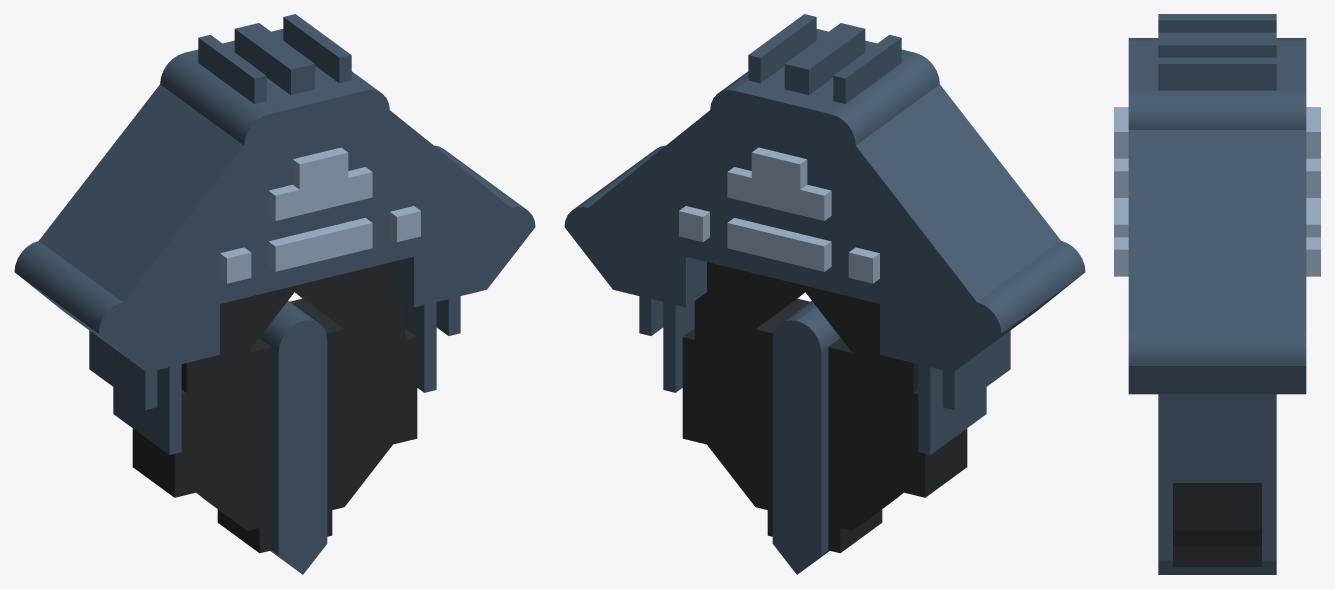
Rendered from SamuraiHelm.fbx.
3 views of the same model, side by side, from view 1: azimuth 30°, elevation 25°; view 2: azimuth 150°, elevation 25°; view 3: azimuth 270°, elevation 25° (orthographic). The views are drawn at different scales.
Visible parts, largest first — view 1: generated; view 2: generated; view 3: generated.
Part boxes in pixels (left/top/right/bottom): generated: left=14, top=14, right=535, bottom=574; generated: left=564, top=14, right=1085, bottom=574; generated: left=1114, top=14, right=1320, bottom=574.
Bounding box in the file's own units: 180 × 200 × 70.
Materials: 1 (1 with a texture image).
